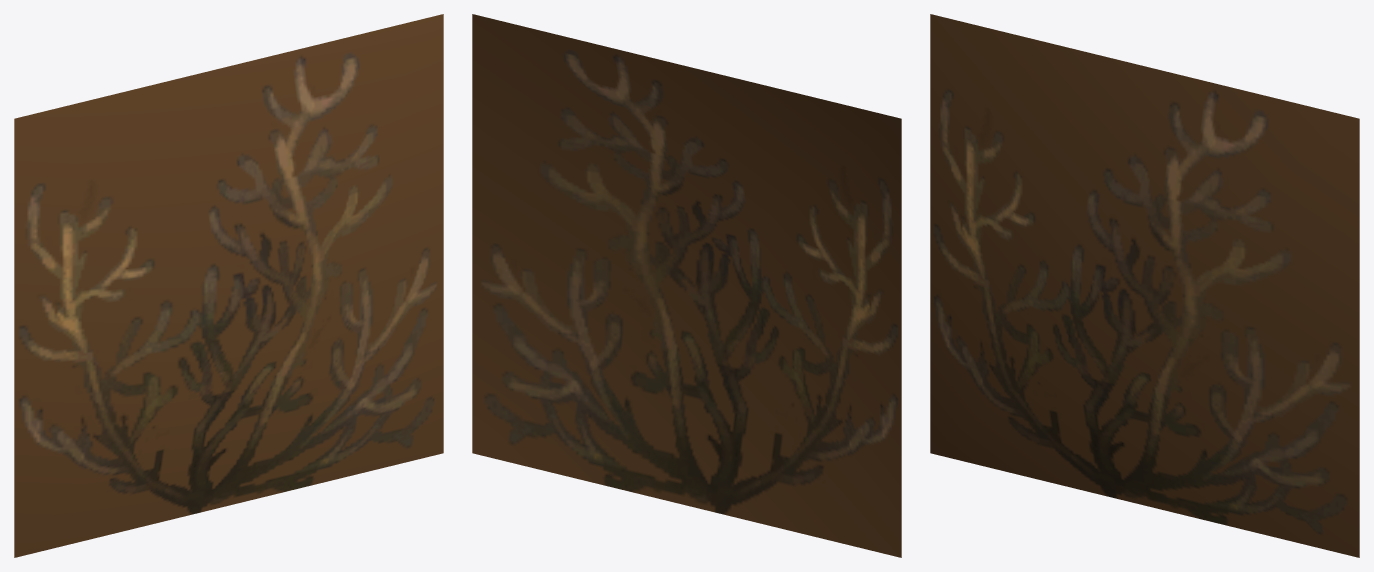
The model's file is grass_05.FBX.
The picture shows the model from 3 angles, left to right: view 1: azimuth 30°, elevation 25°; view 2: azimuth 150°, elevation 25°; view 3: azimuth 330°, elevation 25°; orthographic projection.
Visible parts, largest first — view 1: Plane026; view 2: Plane026; view 3: Plane026.
Part boxes in pixels (x1=…): Plane026: x1=14, y1=14, x2=443, y2=557; Plane026: x1=472, y1=14, x2=901, y2=557; Plane026: x1=930, y1=14, x2=1359, y2=557.
Bounding box in the file's own units: 206 × 202 × 25.78.
1 material, 1 textured.
